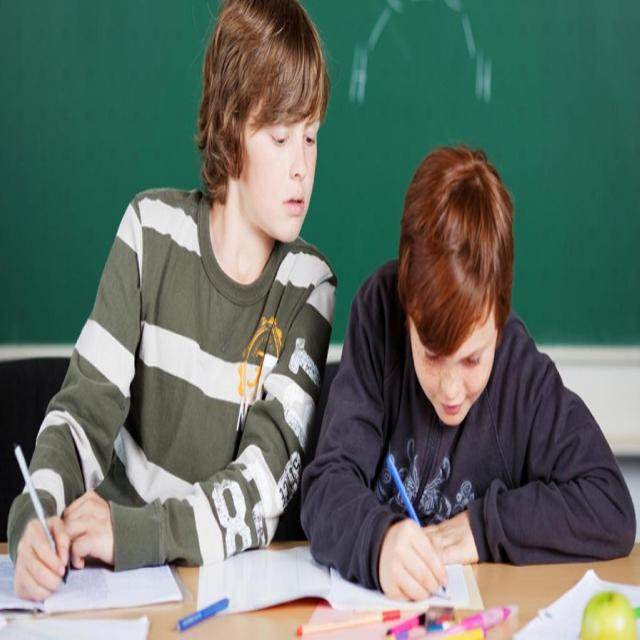Face: (233, 75, 320, 256), (411, 304, 505, 422)
